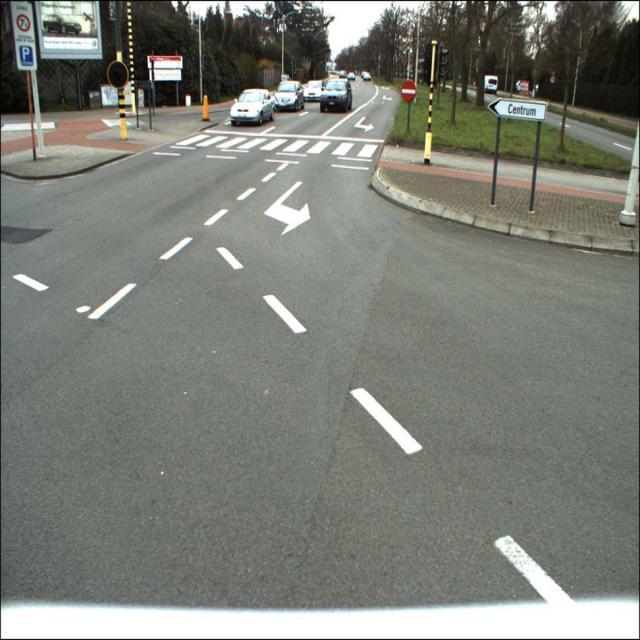girisyok: (400, 80, 417, 104)
